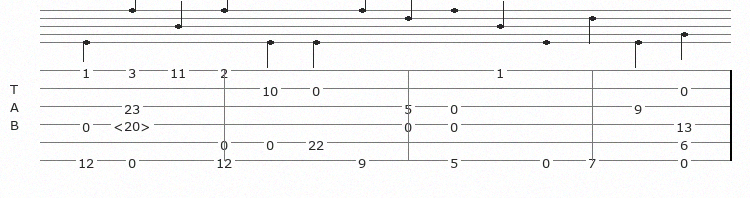0: (82, 118, 94, 131), (128, 154, 140, 167), (220, 136, 232, 149), (266, 136, 278, 149), (312, 82, 324, 95), (404, 118, 416, 131), (450, 118, 462, 131), (450, 100, 462, 113), (542, 154, 554, 167), (680, 154, 692, 167), (680, 82, 692, 95)
1: (82, 64, 94, 77), (496, 64, 508, 77)
10: (262, 82, 282, 95)
11: (170, 64, 190, 77)
12: (78, 154, 98, 167), (216, 154, 236, 167)
13: (676, 118, 696, 131)
2: (220, 64, 232, 77)
22: (308, 136, 328, 149)
23: (124, 100, 144, 113)
3: (128, 64, 140, 77)
5: (404, 100, 416, 113), (450, 154, 462, 167)
6: (680, 136, 692, 149)
7: (588, 154, 600, 167)
9: (358, 154, 370, 167), (634, 100, 646, 113)
harmonic: (113, 117, 155, 131)
